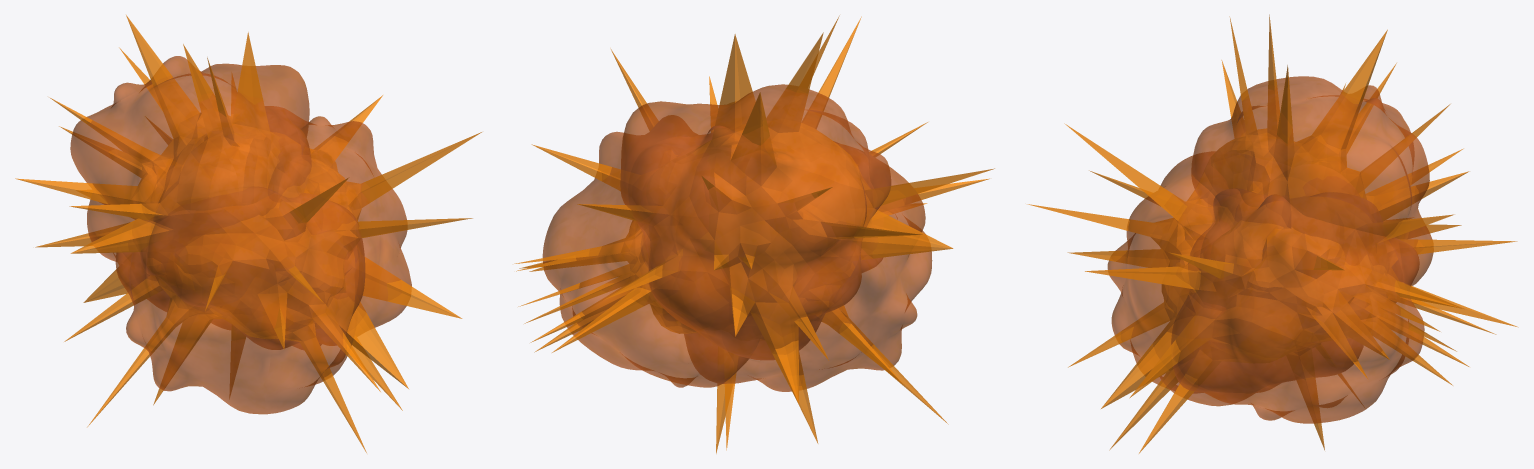
3 views of the same model, side by side, from view 1: azimuth 30°, elevation 25°; view 2: azimuth 150°, elevation 25°; view 3: azimuth 270°, elevation 25° (orthographic). The views are drawn at different scales.
Visible parts, largest first — view 1: Explosion, Explosion_pointy; view 2: Explosion, Explosion_pointy; view 3: Explosion, Explosion_pointy.
Boxes of the visible parts, left/top/right/bottom form: Explosion: left=70, top=56, right=411, bottom=414; Explosion_pointy: left=15, top=15, right=481, bottom=452; Explosion: left=542, top=84, right=932, bottom=391; Explosion_pointy: left=514, top=15, right=994, bottom=453; Explosion: left=1107, top=76, right=1433, bottom=423; Explosion_pointy: left=1027, top=14, right=1518, bottom=453.
Size of the model in its own units: 18.36 by 17.87 by 19.92.
Materials: 2 (1 with a texture image).
